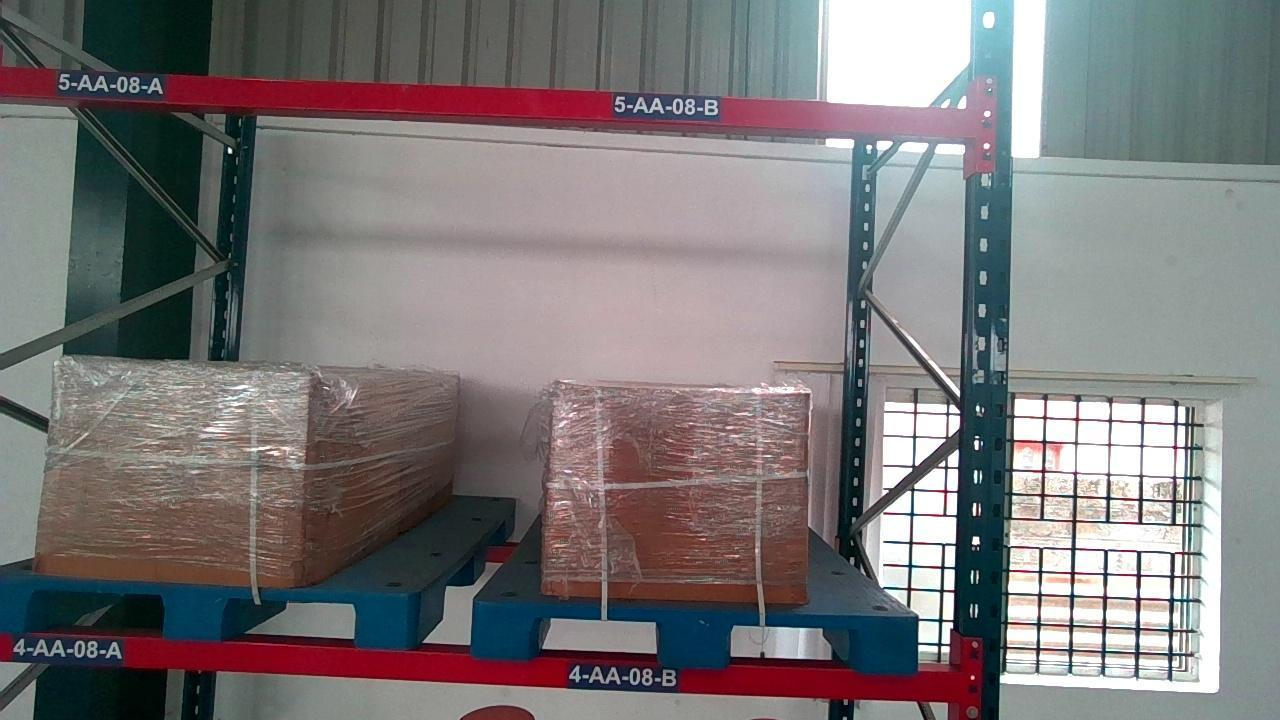h_rack: (0, 67, 986, 139), (0, 632, 958, 704)
small_pallet: (3, 579, 412, 642), (473, 607, 917, 665)
